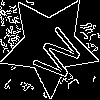W: (24, 20, 86, 85)
